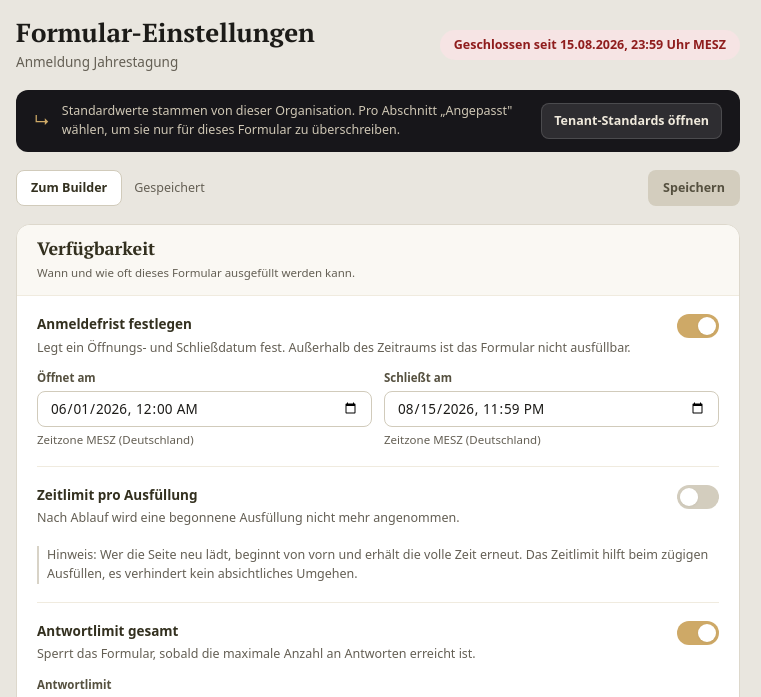
the settings page › keeps an emptied deadline empty and drops it from the badge
Expected: the heading "Formular-Einstellungen" is shown, x1=16 y1=16 x2=315 y2=49
Clear the field labelled "Schließt am": coordinates (552, 409) x1=384 y1=391 x2=719 y2=427
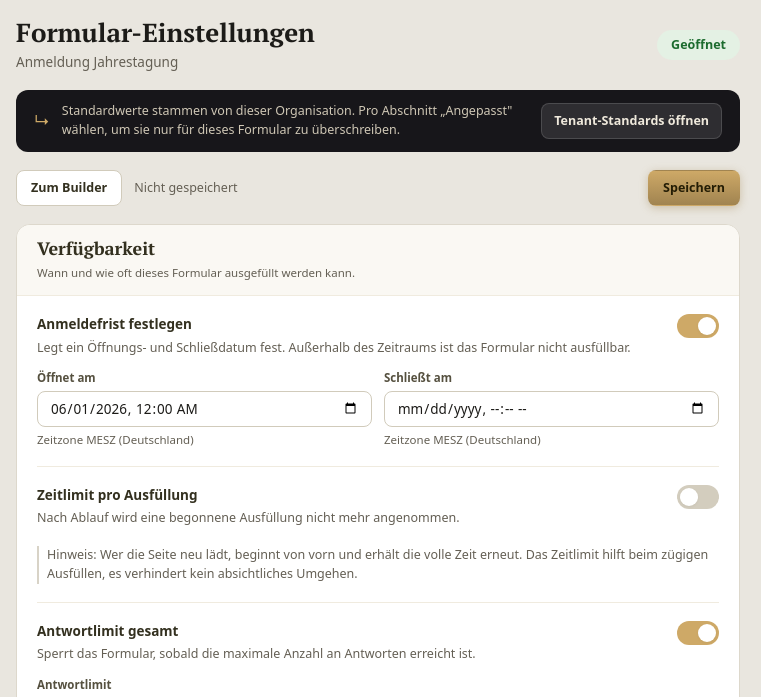
Expected: the text "15.08.2026" is gone
